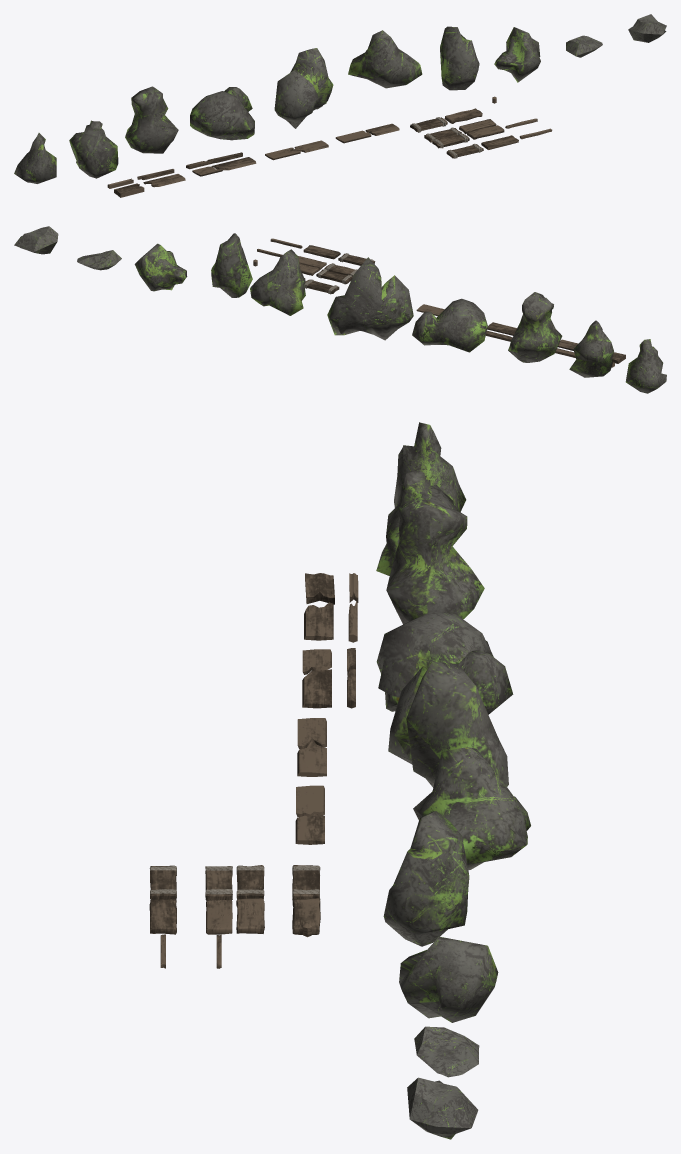
Rendered from sozai01.fbx.
The picture shows the model from 3 angles, top to bottom: view 1: azimuth 30°, elevation 25°; view 2: azimuth 150°, elevation 25°; view 3: azimuth 270°, elevation 25°; orthographic projection. The views are drawn at different scales.
Parts seen in each view (by area): view 1: sozai_1_02, sozai_1_05, sozai_1_06, sozai_1_03, sozai_1_08, sozai_1_04, sozai_1_07, sozai_1_01, sozai_1_10, sozai_1_09, sozai_1_28, sozai_1_33 (+7 smaller); view 2: sozai_1_02, sozai_1_05, sozai_1_03, sozai_1_06, sozai_1_08, sozai_1_04, sozai_1_07, sozai_1_01, sozai_1_10, sozai_1_09, sozai_1_31, sozai_1_30 (+1 smaller); view 3: sozai_1_02, sozai_1_03, sozai_1_08, sozai_1_06, sozai_1_05, sozai_1_07, sozai_1_10, sozai_1_01, sozai_1_09, sozai_1_04, sozai_1_33, sozai_1_19 (+1 smaller).
Boxes of the visible parts, x1,y1,x2,y2 form: sozai_1_02: (274,48,333,128); sozai_1_05: (190,87,254,140); sozai_1_06: (348,30,422,88); sozai_1_03: (125,86,178,153); sozai_1_08: (440,26,479,90); sozai_1_04: (69,120,118,178); sozai_1_07: (494,27,540,82); sozai_1_01: (14,133,56,183); sozai_1_10: (628,14,666,42); sozai_1_09: (566,35,602,57); sozai_1_28: (444,108,482,123); sozai_1_33: (211,157,256,170); sozai_1_02: (327,257,413,340); sozai_1_05: (412,298,487,352); sozai_1_03: (508,292,562,362); sozai_1_06: (250,249,305,315); sozai_1_08: (211,233,252,297); sozai_1_04: (569,320,613,377); sozai_1_07: (134,243,187,291); sozai_1_01: (625,339,666,393); sozai_1_10: (14,226,58,254); sozai_1_09: (77,250,121,270); sozai_1_31: (316,269,352,284); sozai_1_30: (304,279,339,294); sozai_1_02: (388,662,508,787); sozai_1_03: (386,491,484,624); sozai_1_08: (383,811,469,946); sozai_1_06: (413,747,530,870); sozai_1_05: (376,611,513,714); sozai_1_07: (399,936,498,1022); sozai_1_10: (407,1077,478,1139); sozai_1_01: (394,422,466,511); sozai_1_09: (414,1026,479,1077); sozai_1_04: (376,470,455,575); sozai_1_33: (302,669,331,708); sozai_1_19: (304,602,333,640).
Size of the model in its own units: 27.41 by 3.46 by 7.06.
